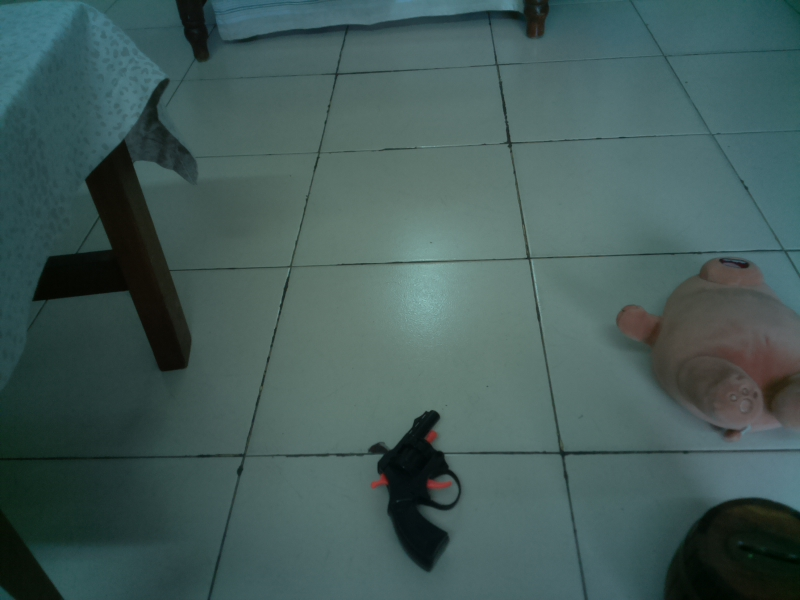Gun: (371, 405, 467, 573)
